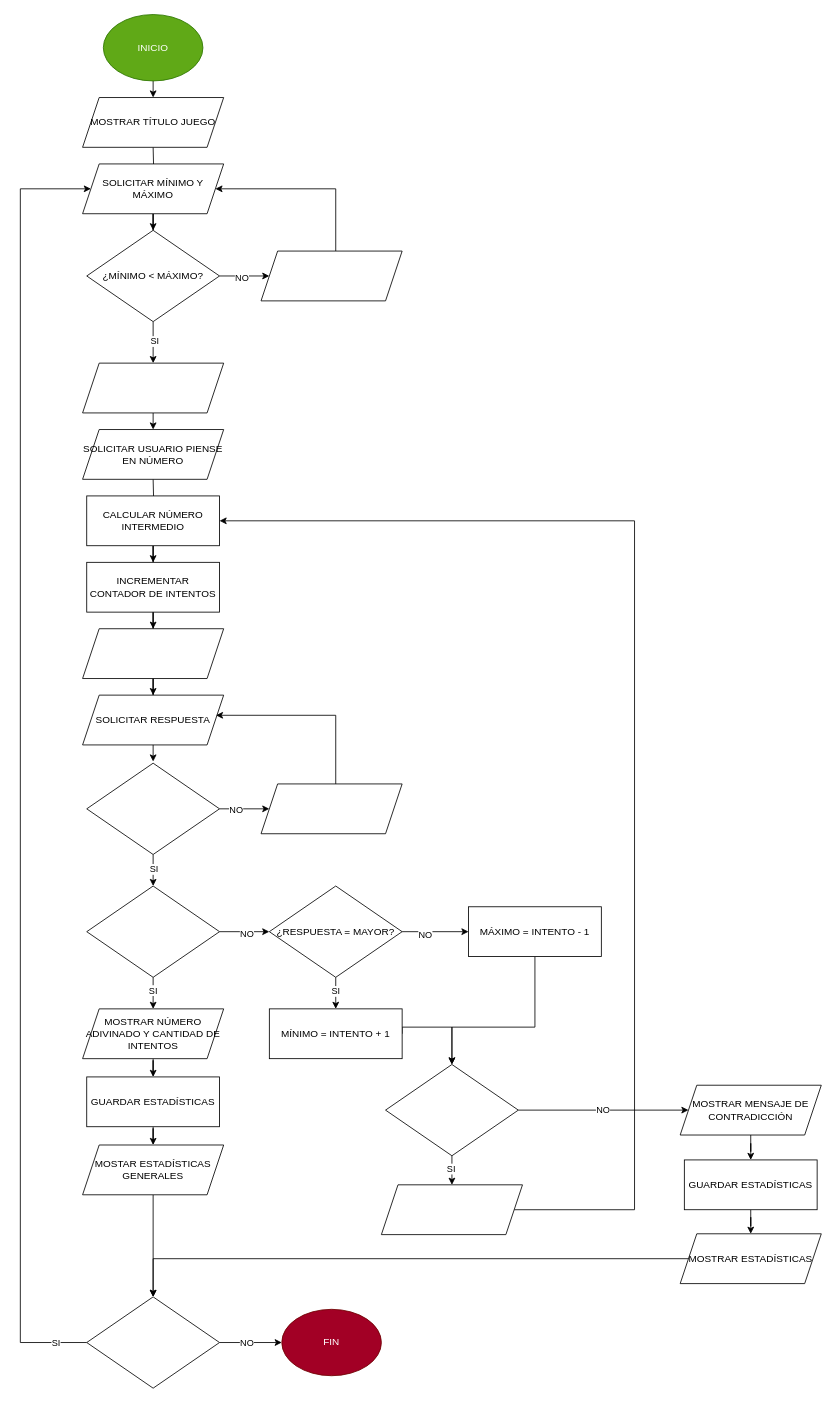
The diagram is 836 pixels wide and 1403 high, and some of its shapes have lost their labels. Here are the shapes that lost their labels. From the top down, the centre of each, then its label:
the point at 331,275: MOSTRAR ERROR DE RANGO
the point at 153,387: MOSTRAR INSTRUCCIONES
the point at 153,653: MOSTRAR NÚMERO PROPUESTO
the point at 153,808: ¿RESPUESTA VÁLIDA?
the point at 331,808: MOSTRAR ERROR DE RESPUESTA
the point at 153,931: ¿RESPUESTA = CORRECTO?
the point at 451,1110: ¿MÍNIMO <= MÁXIMO?
the point at 451,1209: MOSTRAR RANGO RESTANTE
the point at 153,1342: ¿JUGAR NUEVAMENTE?
